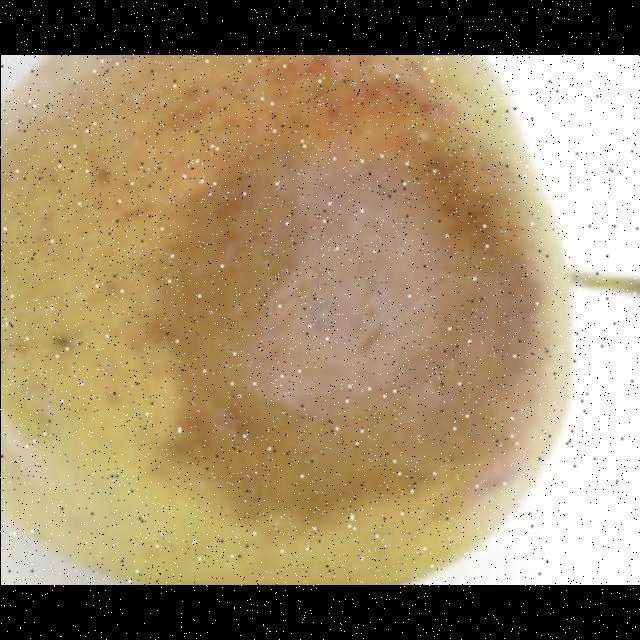Apel Tidak Segar: (0, 55, 582, 585)
